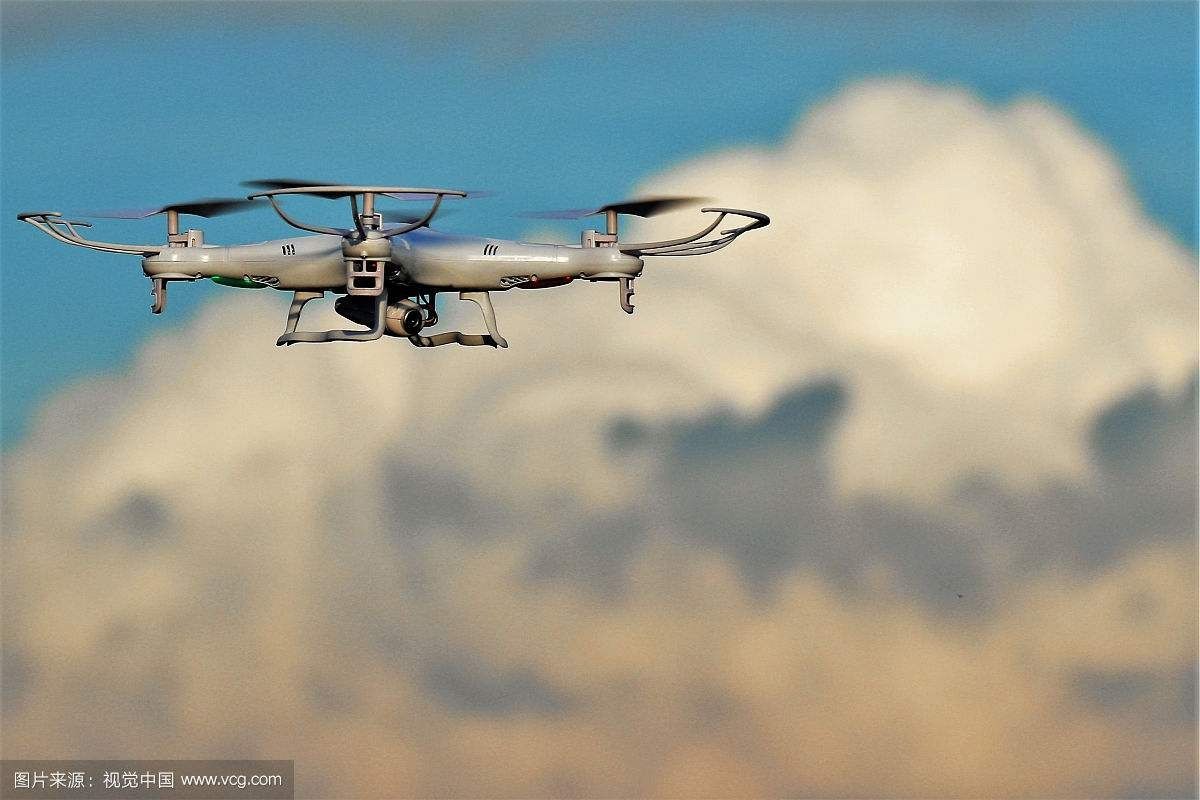DJI: (17, 175, 767, 352)
